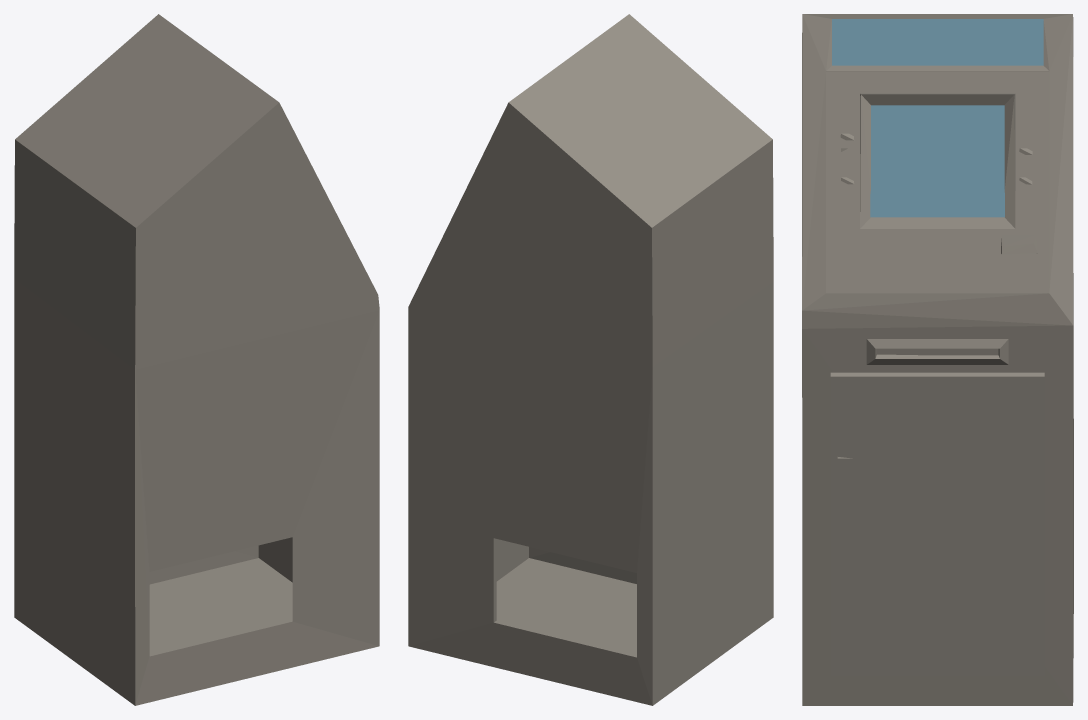
Rendered from atm.lod2.glb.
The picture shows the model from 3 angles, left to right: view 1: azimuth 30°, elevation 25°; view 2: azimuth 150°, elevation 25°; view 3: azimuth 270°, elevation 25°; orthographic projection. The views are drawn at different scales.
Parts seen in each view (by area): view 1: SMS ATM Machine.Shape_ATM Machine_0; view 2: SMS ATM Machine.Shape_ATM Machine_0; view 3: SMS ATM Machine.Shape_ATM Machine_0.
Boxes of the visible parts, bbox=[...] form: SMS ATM Machine.Shape_ATM Machine_0: bbox=[14, 14, 379, 705]; SMS ATM Machine.Shape_ATM Machine_0: bbox=[408, 14, 773, 705]; SMS ATM Machine.Shape_ATM Machine_0: bbox=[802, 14, 1073, 705].
Size of the model in its own units: 0.7296 by 1.57 by 0.6069.
